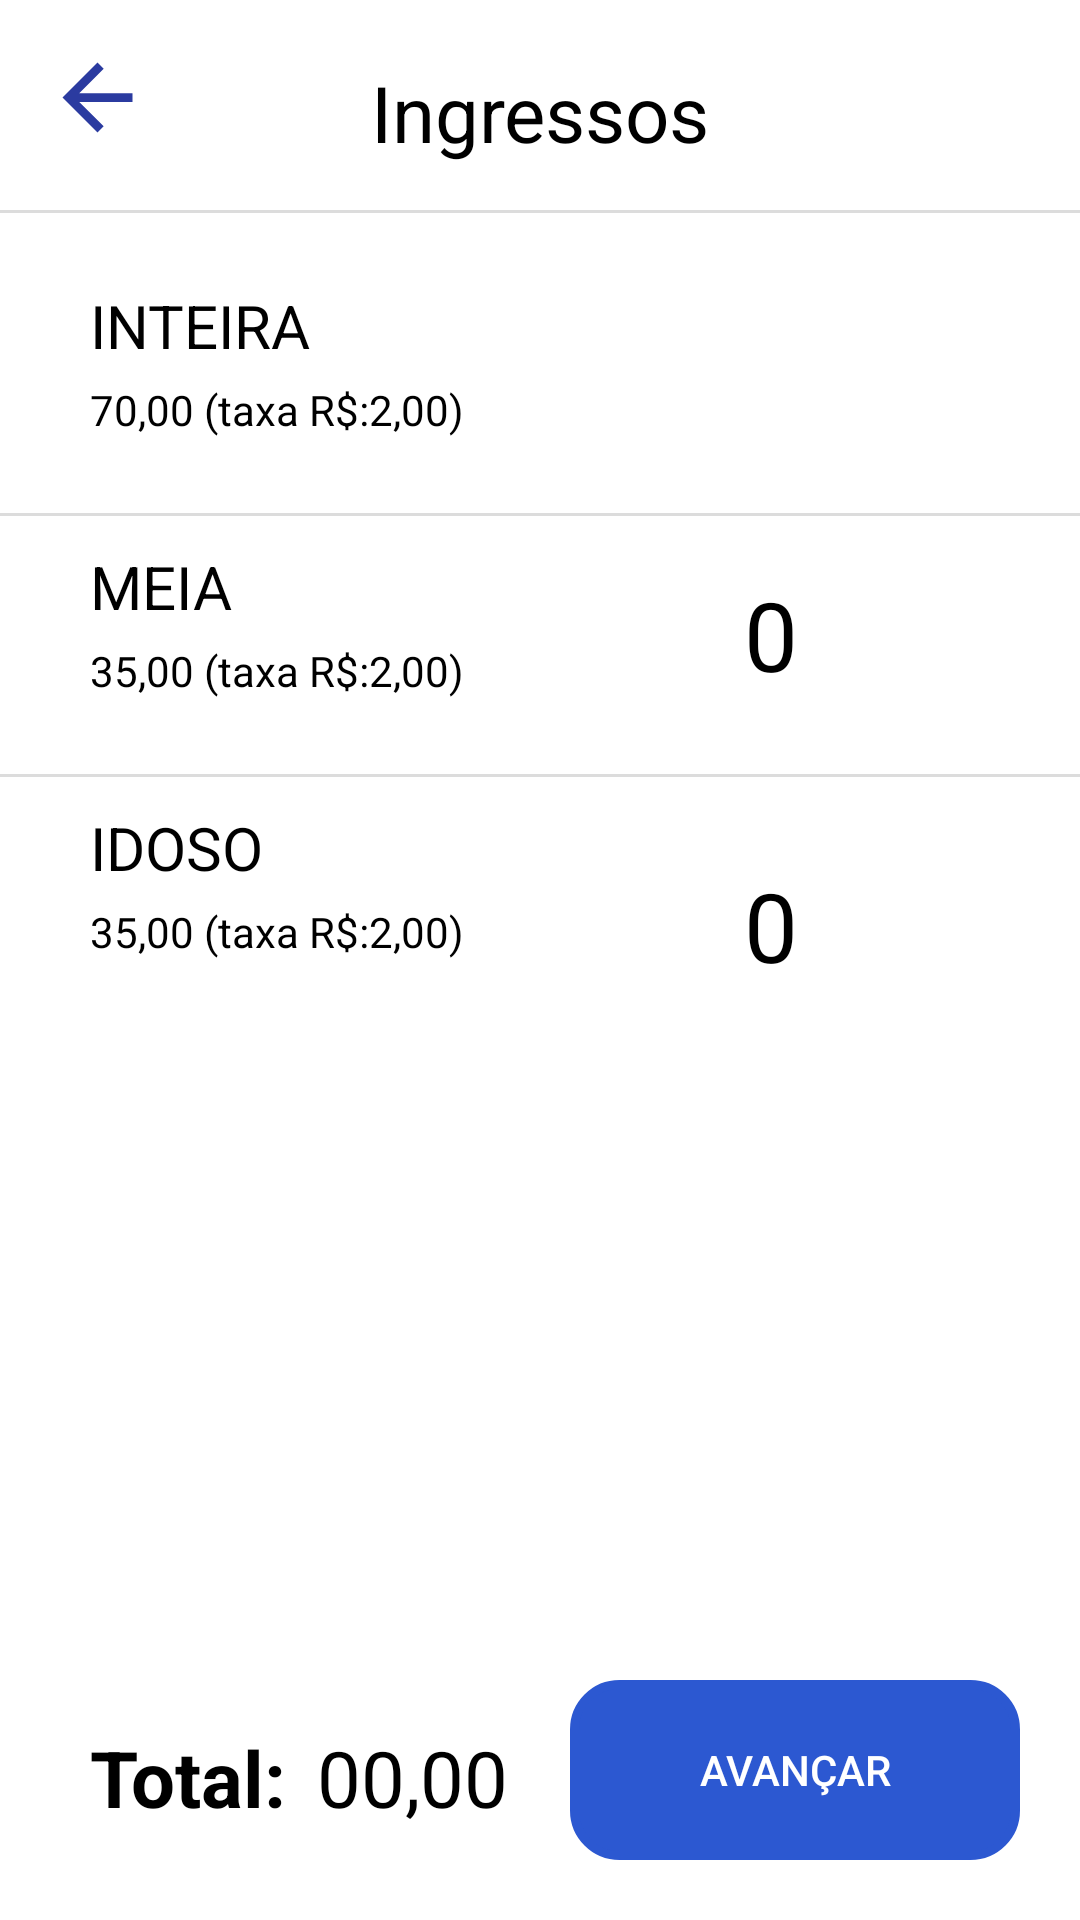

Icons on this 1080px×1920px Android screen, each with the point to tap as (x,y):
seta volta azul: (97,97)
